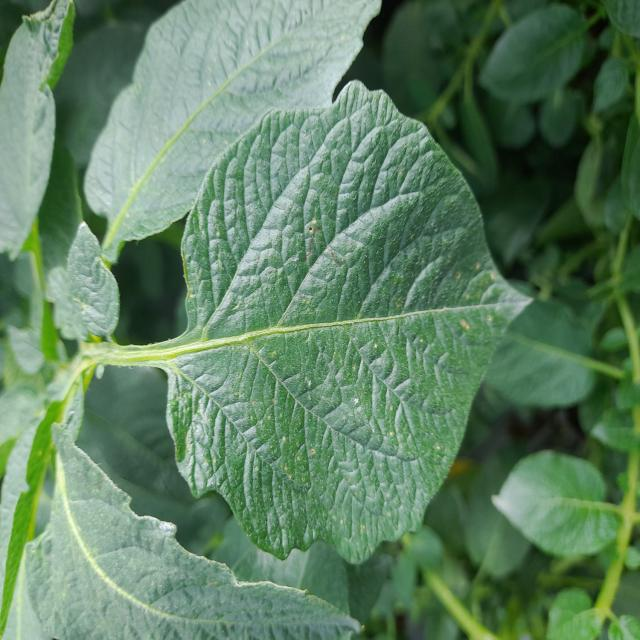healthy: (162, 79, 534, 566)
